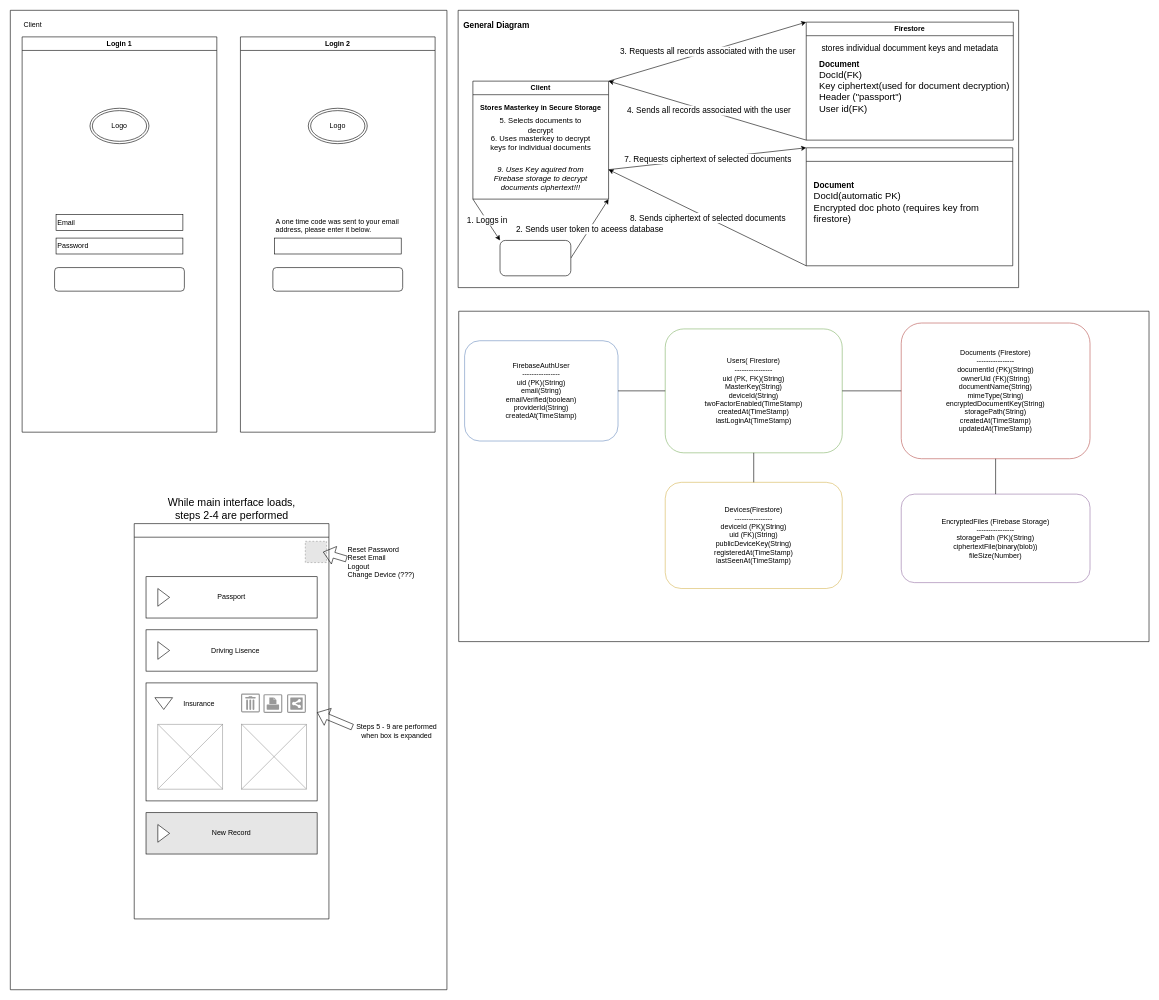
The diagram is 1159 pixels wide and 1000 high, and some of its shapes have lost their labels. Grey dashed boxes stand in for pictures. The box of each missing label's shape, as (x1, y1, x2, y2) in pixels:
Code: (274, 237, 401, 254)
Continue: (54, 267, 184, 291)
Firebase 2FA: (499, 240, 571, 276)
Firebase Storage: (806, 147, 1013, 266)
logical data schema(not relevant): (458, 311, 1149, 642)
Login: (272, 267, 403, 291)
Main Interface: (134, 523, 329, 919)
